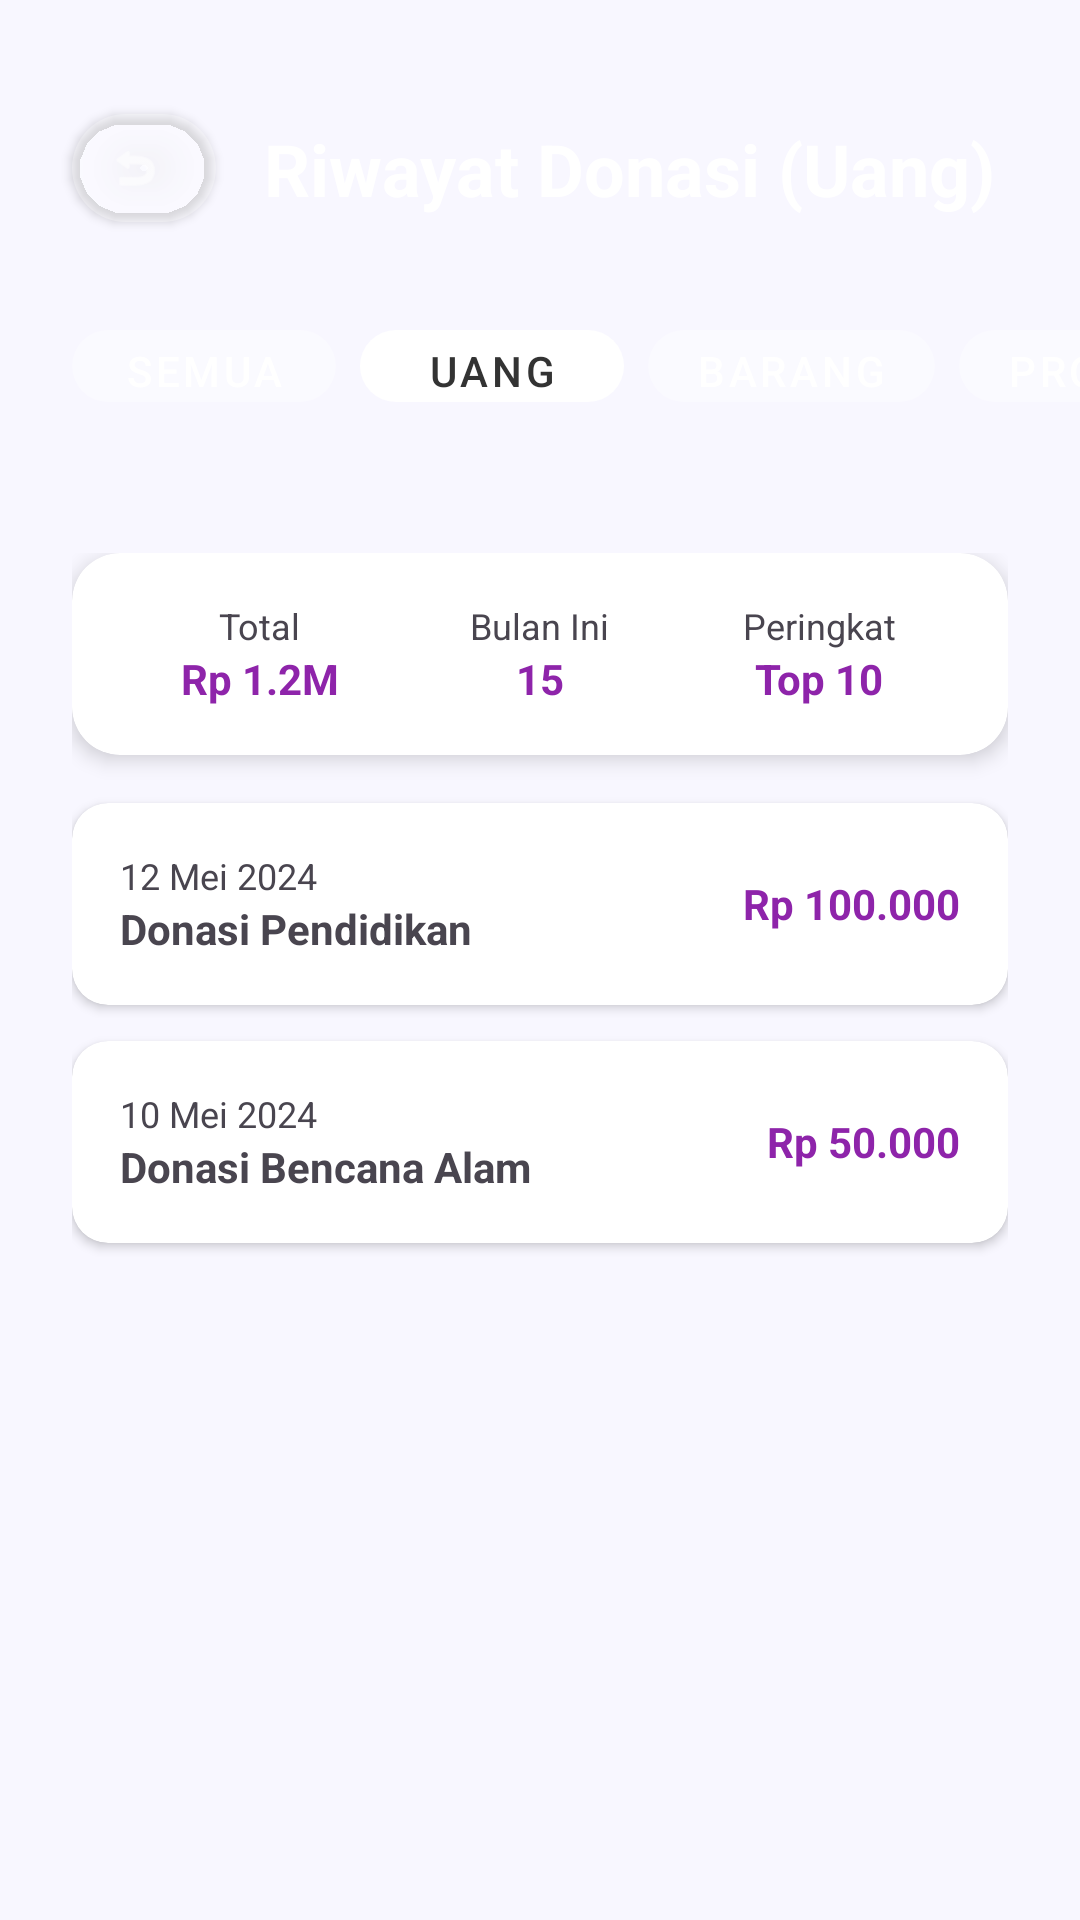

Icons on this 1080w x 1920h Android screen, each with the point to tap as [x,y]:
revert: [140,169]
